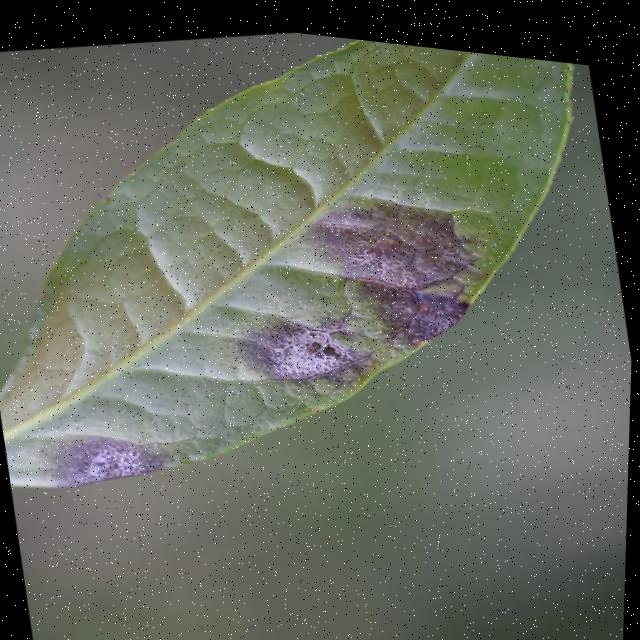Tea exobasidium blight: (225, 168, 503, 411), (38, 415, 186, 508)
